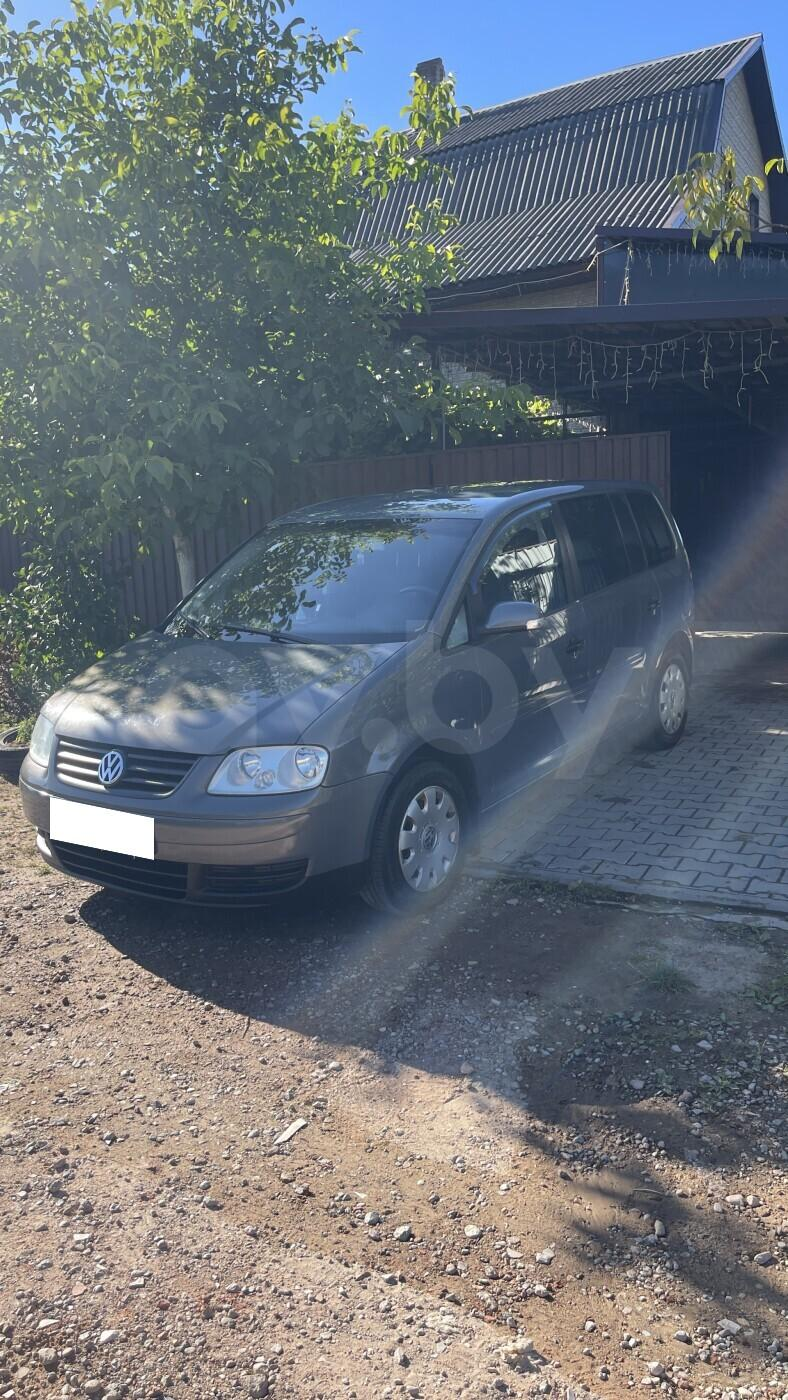Touran_2003-2006: (20, 474, 702, 924)
